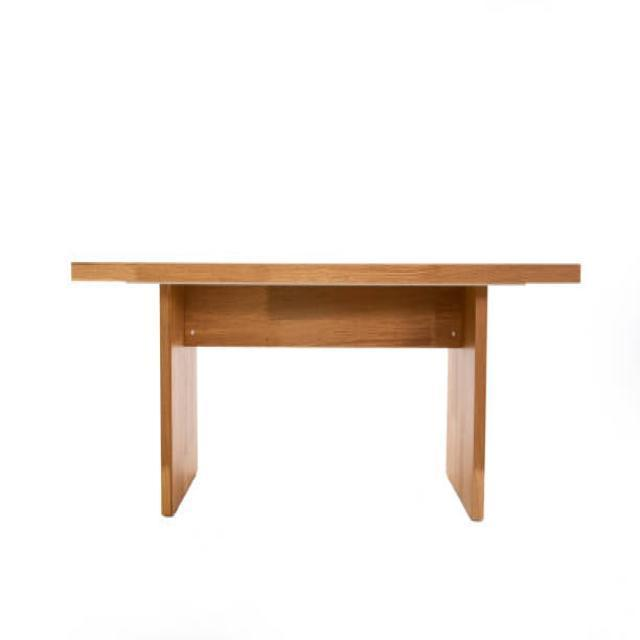table: (70, 259, 582, 521)
